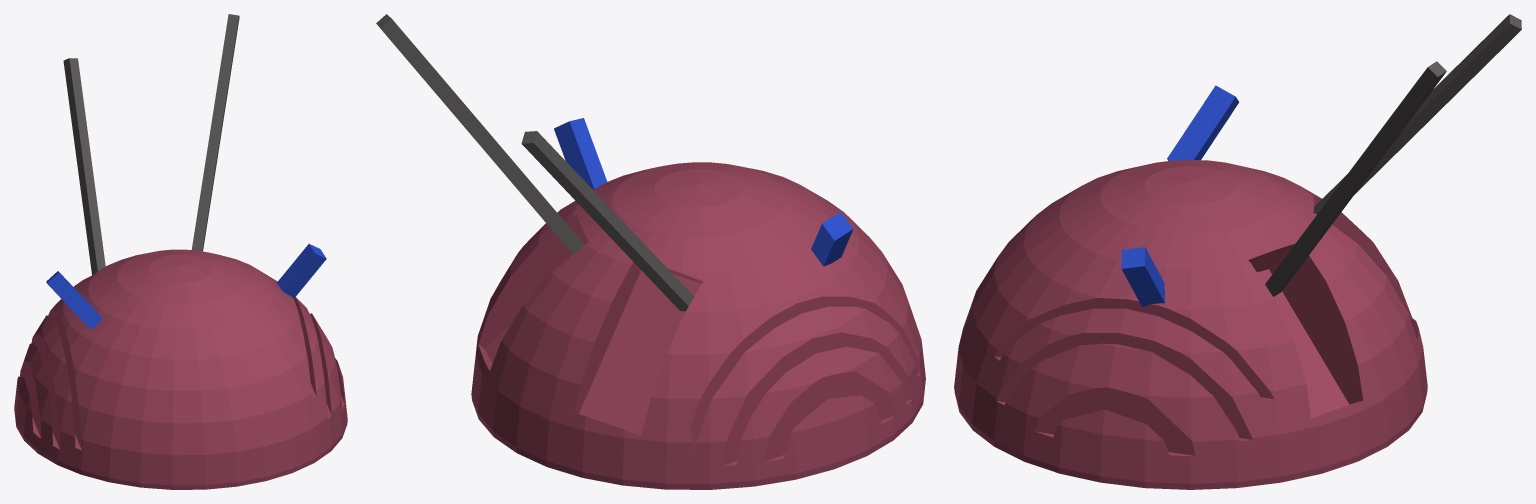
File: space_phasegun_center.fbx
3 views of the same model, side by side, from view 1: azimuth 30°, elevation 25°; view 2: azimuth 150°, elevation 25°; view 3: azimuth 270°, elevation 25° (orthographic). The views are drawn at different scales.
Parts seen in each view (by area): view 1: Sphere; view 2: Sphere; view 3: Sphere.
Part boxes in pixels (left/top/right/bottom): Sphere: left=14, top=14, right=347, bottom=489; Sphere: left=376, top=14, right=925, bottom=489; Sphere: left=954, top=14, right=1521, bottom=489.
Size of the model in its own units: 1.89 by 1.9 by 2.3.
